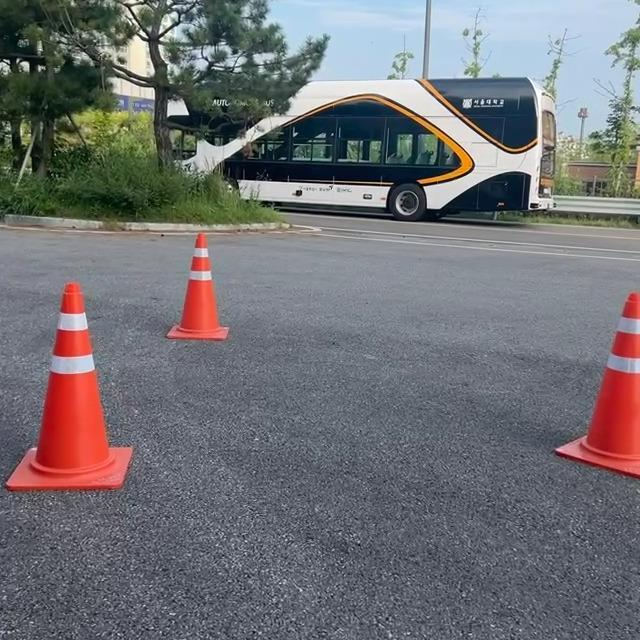fallen_object: (153, 216, 384, 458), (0, 285, 229, 512)
